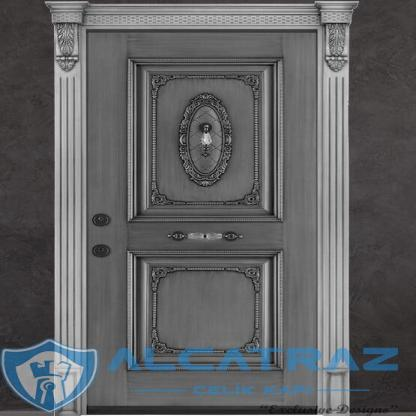door: (87, 30, 316, 407)
